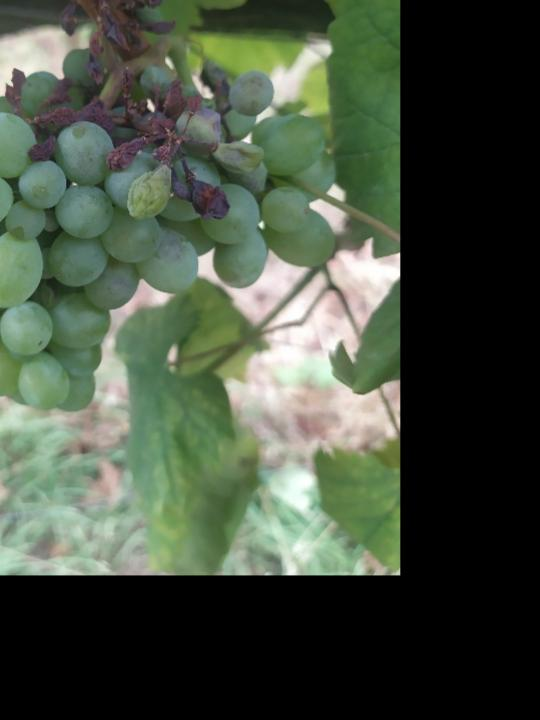grape: (0, 0, 337, 415)
